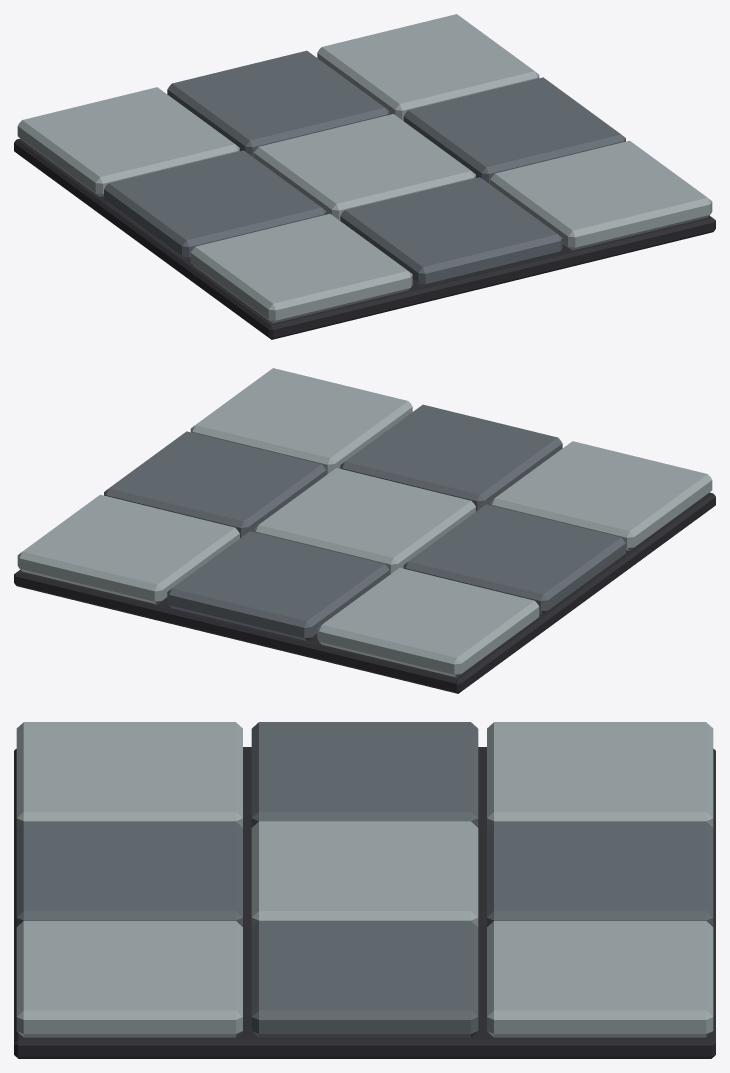
File: 03_Flagstone_Tile.glb
The picture shows the model from 3 angles, top to bottom: view 1: azimuth 30°, elevation 25°; view 2: azimuth 150°, elevation 25°; view 3: azimuth 270°, elevation 25°; orthographic projection. The views are drawn at different scales.
Visible parts, largest first — view 1: 03_Flagstone_Tile__Body; view 2: 03_Flagstone_Tile__Body; view 3: 03_Flagstone_Tile__Body.
Boxes of the visible parts, x1,y1,x2,y2 form: 03_Flagstone_Tile__Body: (14,14,715,339); 03_Flagstone_Tile__Body: (14,368,715,693); 03_Flagstone_Tile__Body: (14,722,715,1058).
Size of the model in its own units: 4 by 0.29 by 4.
Materials: 1 (1 with a texture image).
